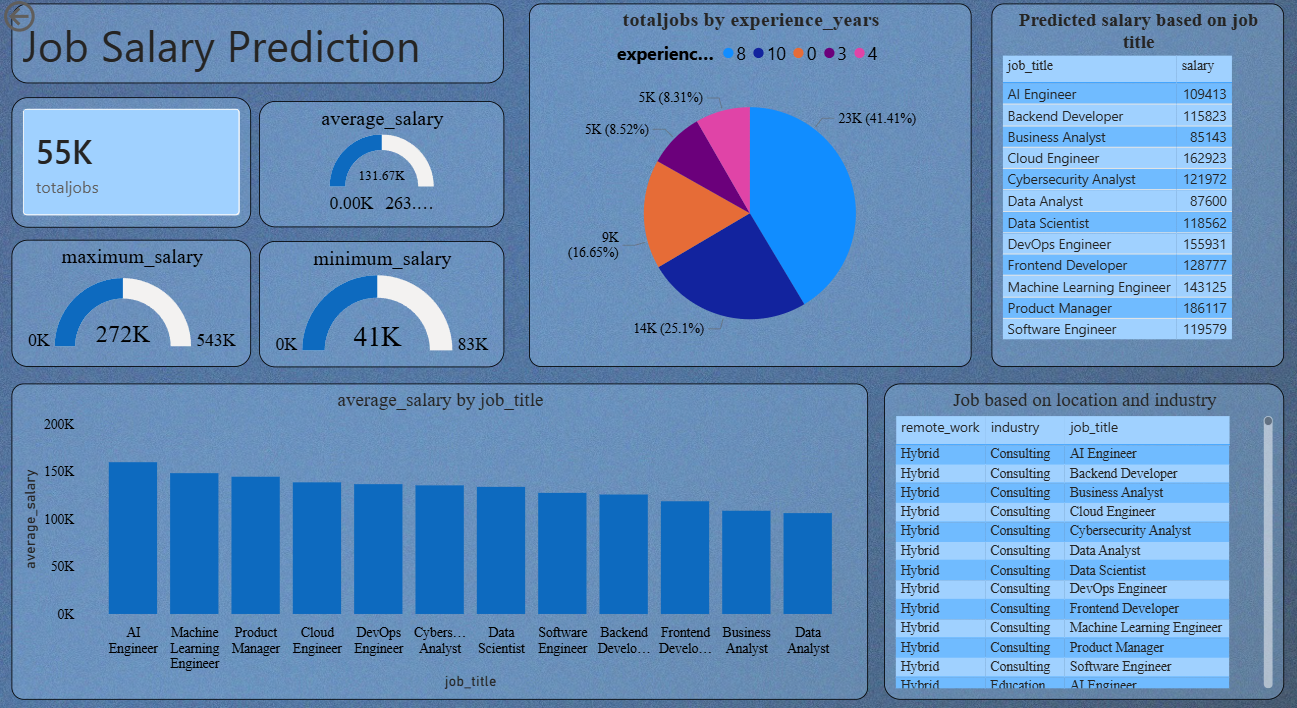

What the dashboard file says about the page in this screenshot:
{"tool":"powerbi","page":{"name":"Page 1","canvas":[1280,720],"ordinal":0},"visuals":[{"type":"textbox","box":[12.3,7.4,483.4,78.5],"z":0},{"type":"columnChart","fields":{"Category":["job_salary_prediction_dataset.job_title"],"Y":["job.average_salary"]},"box":[12.3,380.4,840.5,310.4],"z":1000},{"type":"tableEx","title":"Predicted salary based on job title","fields":{"Values":["job_salary_prediction_dataset.job_title","job.salary"]},"box":[974.2,7.4,287.1,357.1],"z":2000},{"type":"pieChart","fields":{"Y":["job.totaljobs"],"Category":["job.experience_years"]},"box":[520.2,7.4,434.4,357.1],"z":3000},{"type":"actionButton","box":[0,0,100,40],"z":4000},{"type":"gauge","fields":{"Y":["job.minimum_salary"]},"box":[255.2,240.5,240.5,123.9],"z":5000},{"type":"gauge","fields":{"Y":["job.maximum_salary"]},"box":[12.3,239.3,235.6,125.2],"z":6000},{"type":"gauge","fields":{"Y":["job.average_salary"]},"box":[255.2,103.1,240.5,123.9],"z":7000},{"type":"cardVisual","fields":{"Data":["job.totaljobs"]},"box":[12.3,99.4,235.6,127.6],"z":8000},{"type":"tableEx","title":"Job based on location and industry","fields":{"Values":["job_salary_prediction_dataset.remote_work","job_salary_prediction_dataset.industry","job.job_title"]},"box":[868.7,380.4,392.6,310.4],"z":9000}]}

Visuals, with their boxes in screenshot pixels (x1, y1, x2, y2):
textbox: 16 7 503 87
columnChart - job_salary_prediction_dataset.job_title x job.average_salary: 16 383 862 696
"Predicted salary based on job title" tableEx: 985 7 1274 367
pieChart - job.totaljobs x job.experience_years: 527 7 965 367
actionButton: 3 0 104 40
gauge - job.minimum_salary: 260 242 503 367
gauge - job.maximum_salary: 16 241 253 367
gauge - job.average_salary: 260 104 503 229
cardVisual - job.totaljobs: 16 100 253 229
"Job based on location and industry" tableEx: 878 383 1274 696
